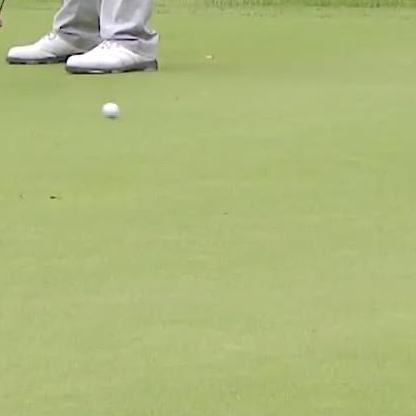golfball: (99, 99, 119, 119)
